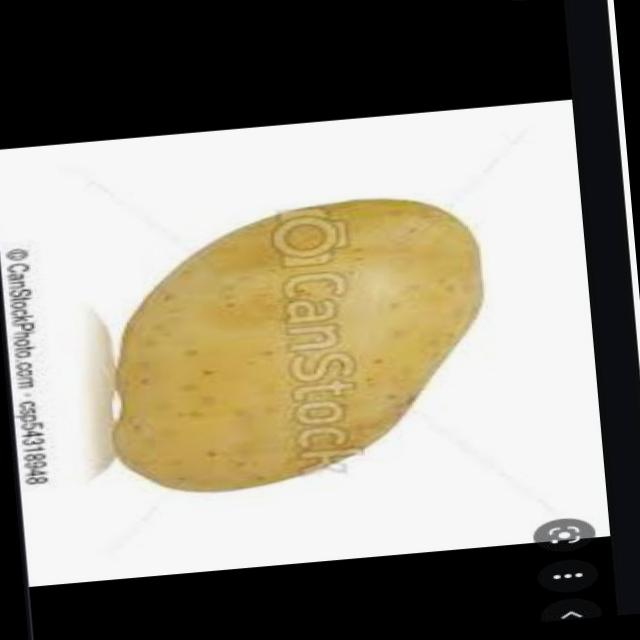potato: (90, 190, 497, 500)
